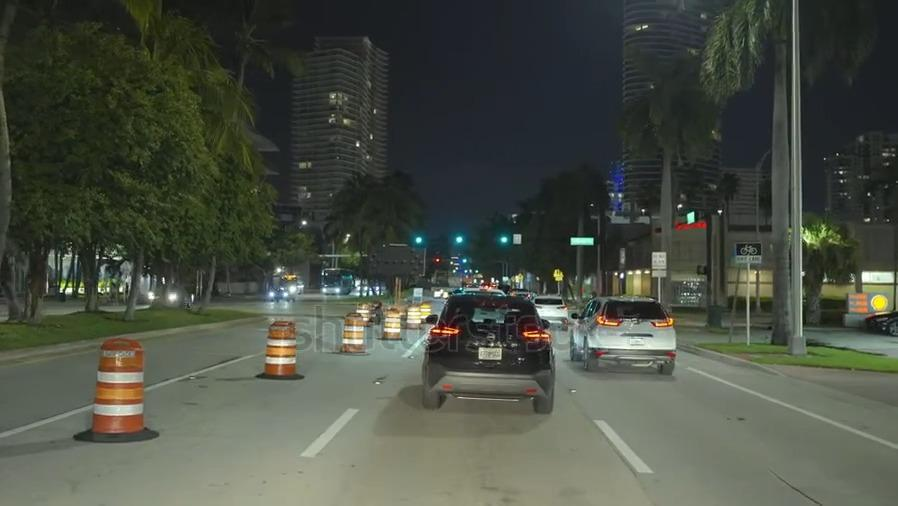bus: (317, 265, 354, 299), (279, 271, 304, 295)
car: (432, 292, 552, 413), (569, 296, 678, 371), (530, 293, 568, 327), (149, 282, 195, 307), (867, 307, 898, 334), (270, 287, 295, 302)
cone: (97, 335, 145, 433), (265, 318, 297, 375), (341, 310, 365, 354), (381, 305, 399, 341), (405, 303, 422, 329), (356, 302, 371, 326), (418, 300, 431, 322)
traffic light: (447, 230, 469, 251), (492, 231, 514, 251), (411, 233, 428, 246)
